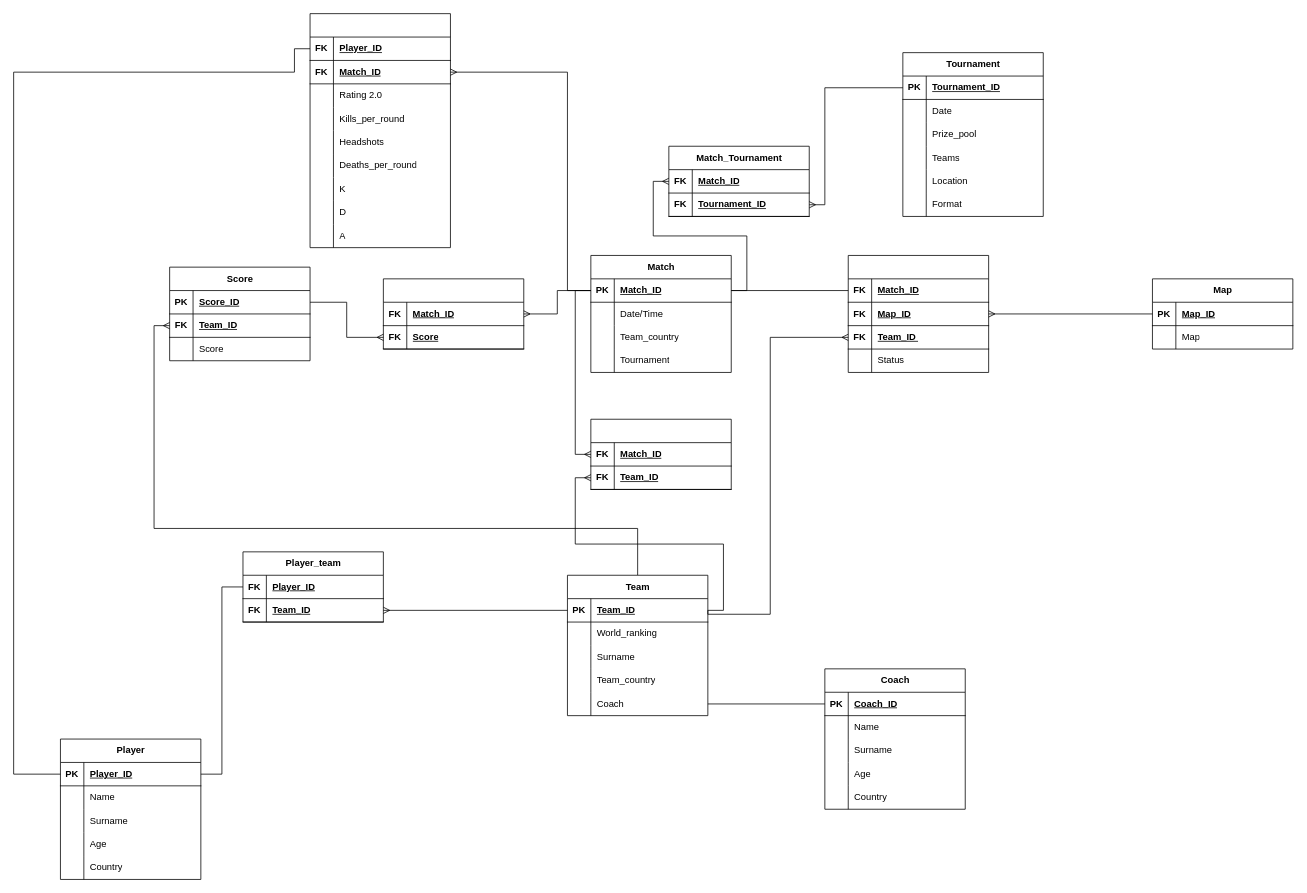
This 1307x893 diagram has some shape labels left out. The box of each missing label's shape, as (x1, y1, x2, y2) in pixels:
Match_Map: (383, 278, 524, 349)
Match_maps: (847, 255, 989, 372)
Match_team: (590, 418, 731, 489)
Player_statistics: (309, 13, 450, 248)
